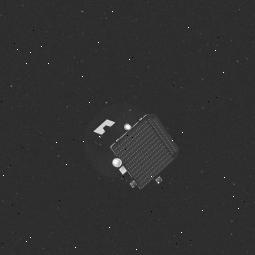proba_3_ocs: (79, 101, 187, 194)
